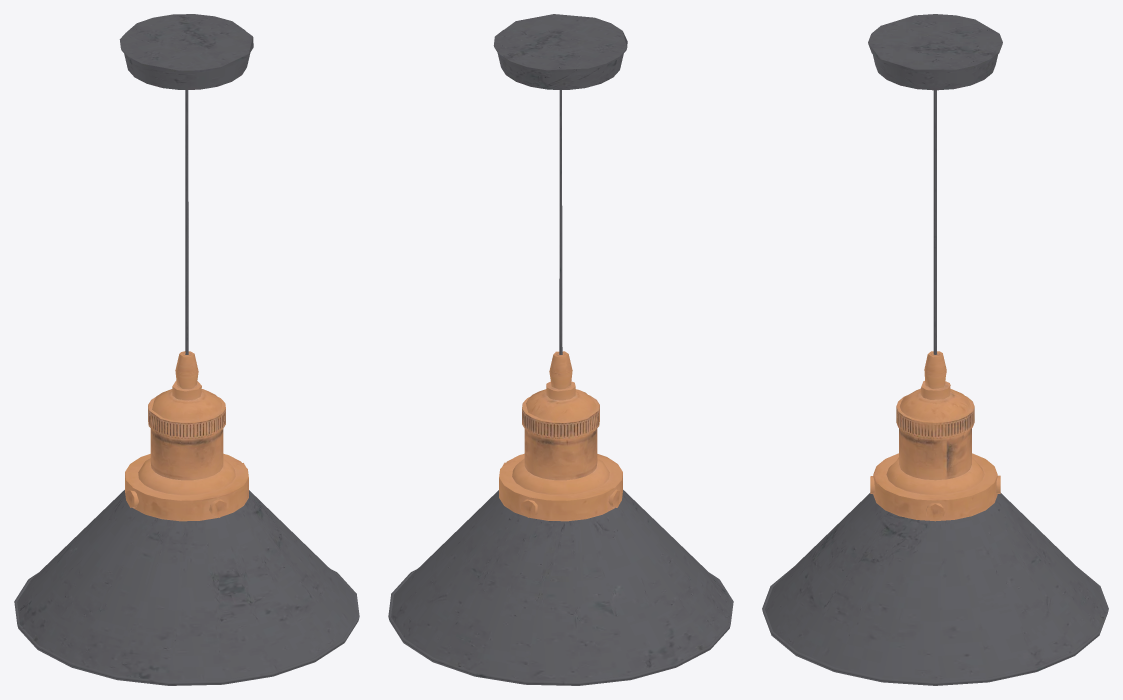
The model's file is lamp-transformed.glb.
3 views of the same model, side by side, from view 1: azimuth 30°, elevation 25°; view 2: azimuth 150°, elevation 25°; view 3: azimuth 270°, elevation 25° (orthographic).
Visible parts, largest first — view 1: re_lamp_02_0; view 2: re_lamp_02_0; view 3: re_lamp_02_0.
Part boxes in pixels (x1,y1,x2,y2): re_lamp_02_0: (14, 14, 359, 685); re_lamp_02_0: (388, 14, 733, 685); re_lamp_02_0: (762, 14, 1108, 685).
Bounding box in the file's own units: 0.6639 × 1.25 × 0.6639.
Materials: 1 (1 with a texture image).
